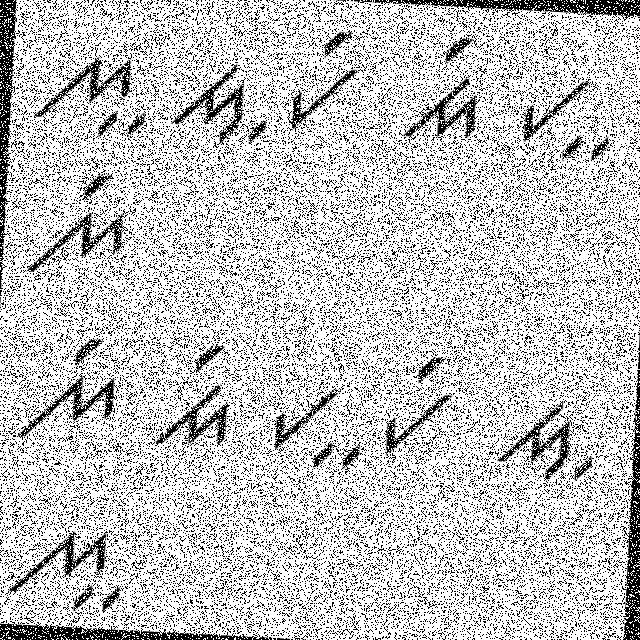dah: (494, 382, 600, 496), (165, 52, 272, 150)
dang: (149, 331, 237, 461), (402, 20, 491, 144)
nah: (23, 48, 150, 146), (4, 518, 127, 616)
nang: (8, 328, 133, 446), (19, 156, 133, 276)
pah: (264, 368, 368, 482), (514, 72, 621, 170)
pang: (282, 25, 366, 140), (380, 349, 460, 460)
